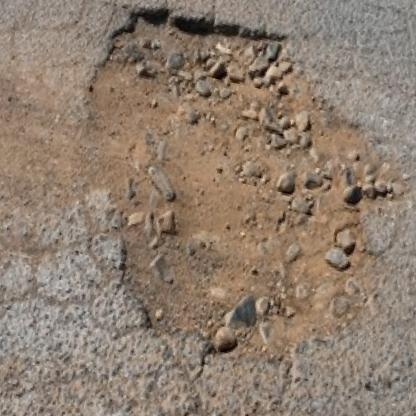pothole: (34, 0, 416, 390)
